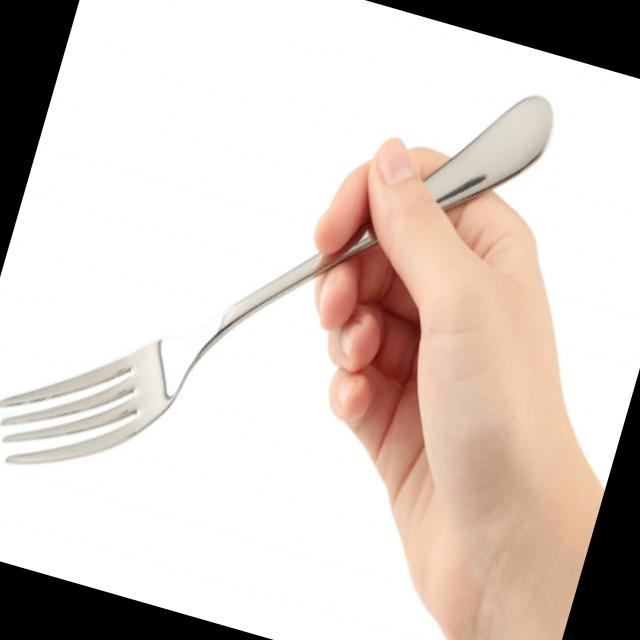fork: (0, 0, 561, 588)
